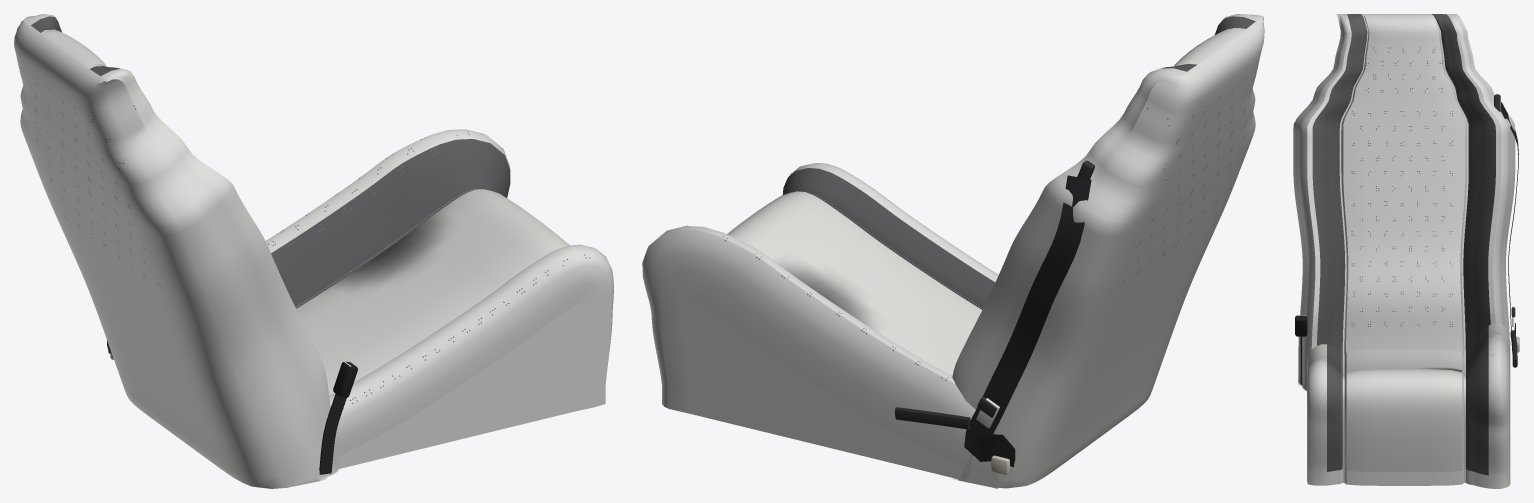
File: SM_Seat_Driver.fbx
The picture shows the model from 3 angles, left to right: view 1: azimuth 30°, elevation 25°; view 2: azimuth 150°, elevation 25°; view 3: azimuth 270°, elevation 25°; orthographic projection. The views are drawn at different scales.
Visible parts, largest first — view 1: Export_Seat_Driver; view 2: Export_Seat_Driver; view 3: Export_Seat_Driver.
Part boxes in pixels (x1,y1,x2,y2): Export_Seat_Driver: [14, 14, 613, 488]; Export_Seat_Driver: [642, 14, 1264, 488]; Export_Seat_Driver: [1293, 14, 1519, 488].
Size of the model in its own units: 0.5532 by 1.06 by 0.8244.
